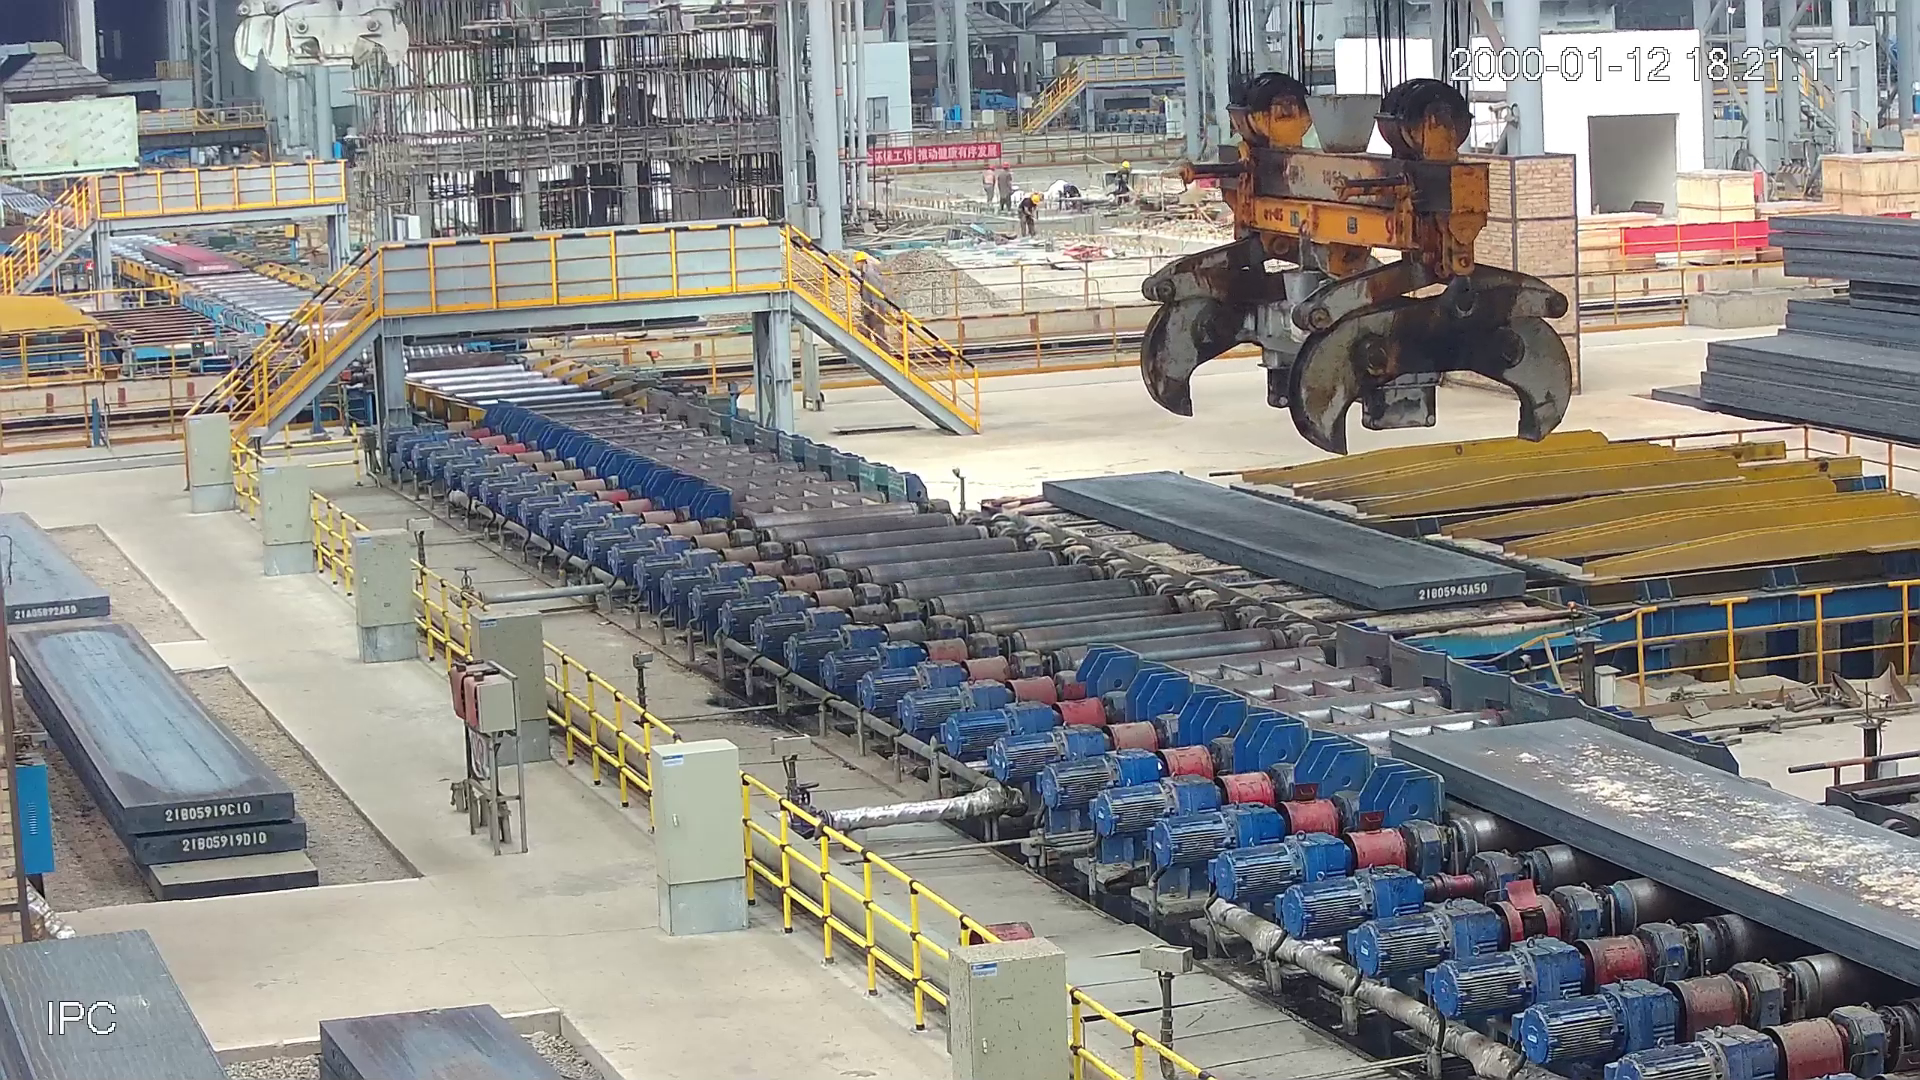crane: (1131, 63, 1578, 473)
slab: (1377, 711, 1917, 988), (1036, 465, 1534, 612), (138, 241, 247, 278)
